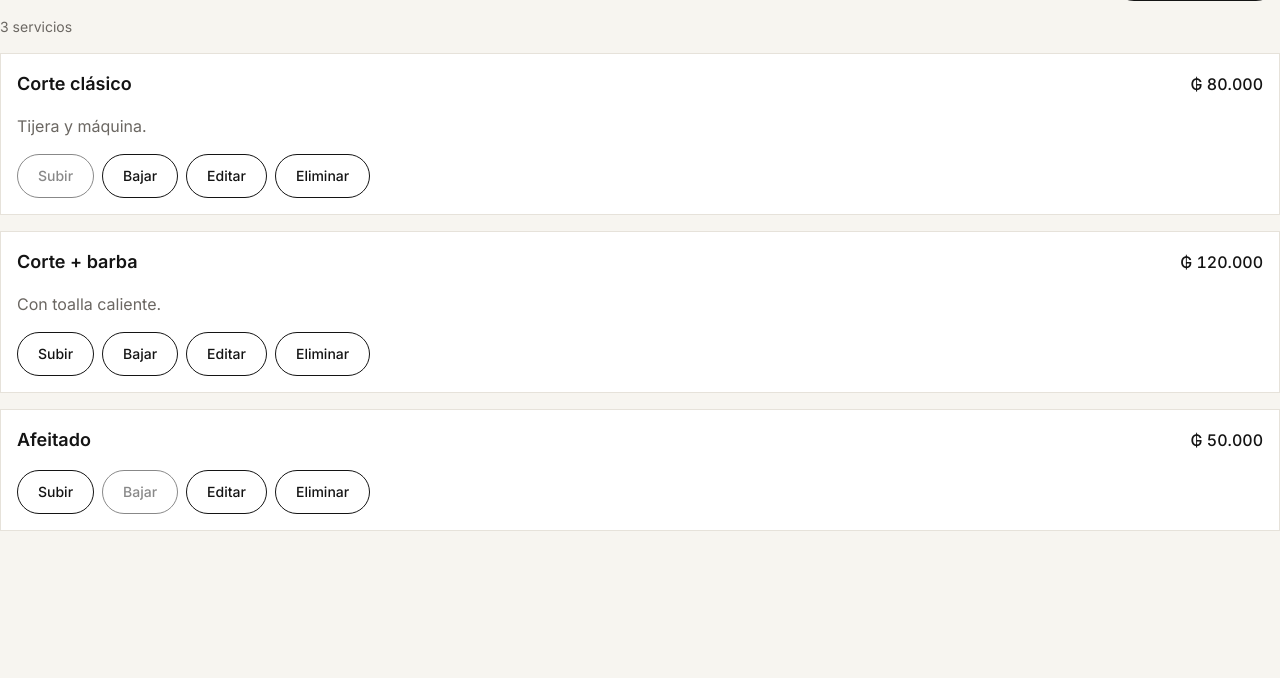
Test: edición en línea › los errores aparecen junto al campo y en el resumen solo tras enviar
Click the button with aria-label "Editar Corte + barba". click: [226, 354]
box: [186,332,267,376]
(page scrolled)
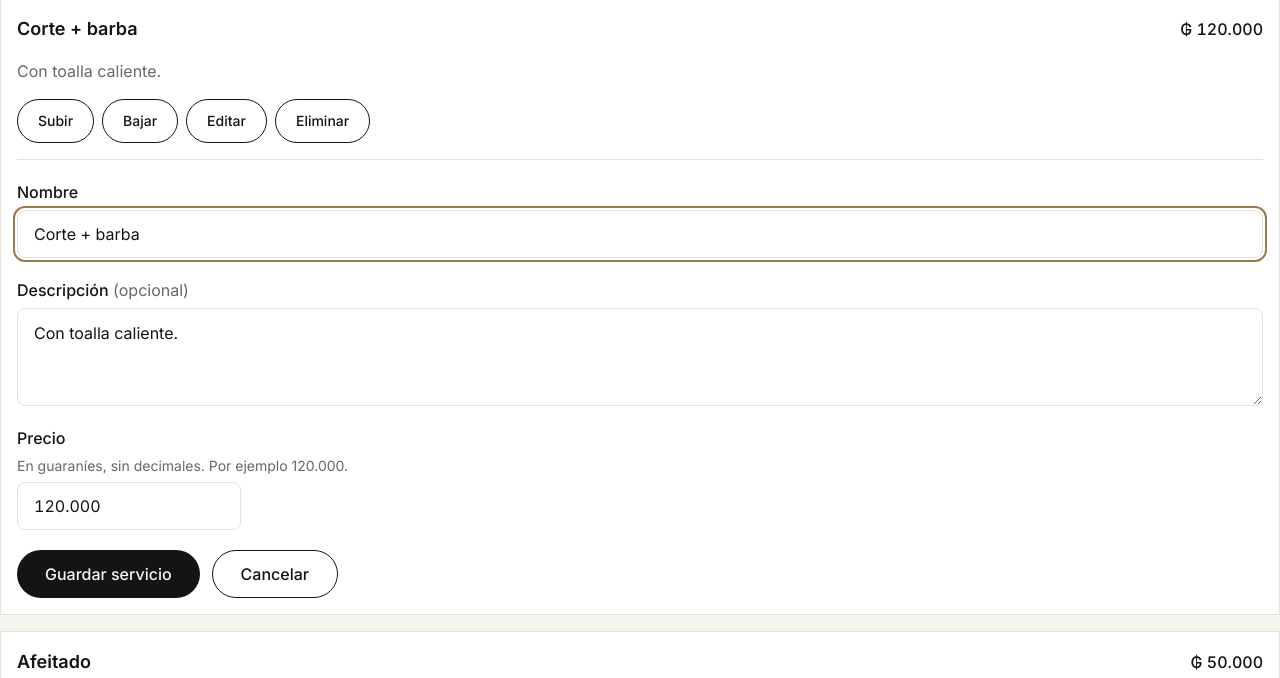
Replace the text in the field labelled "Precio" with "abc". click: [129, 506]
box: [17,482,241,530]
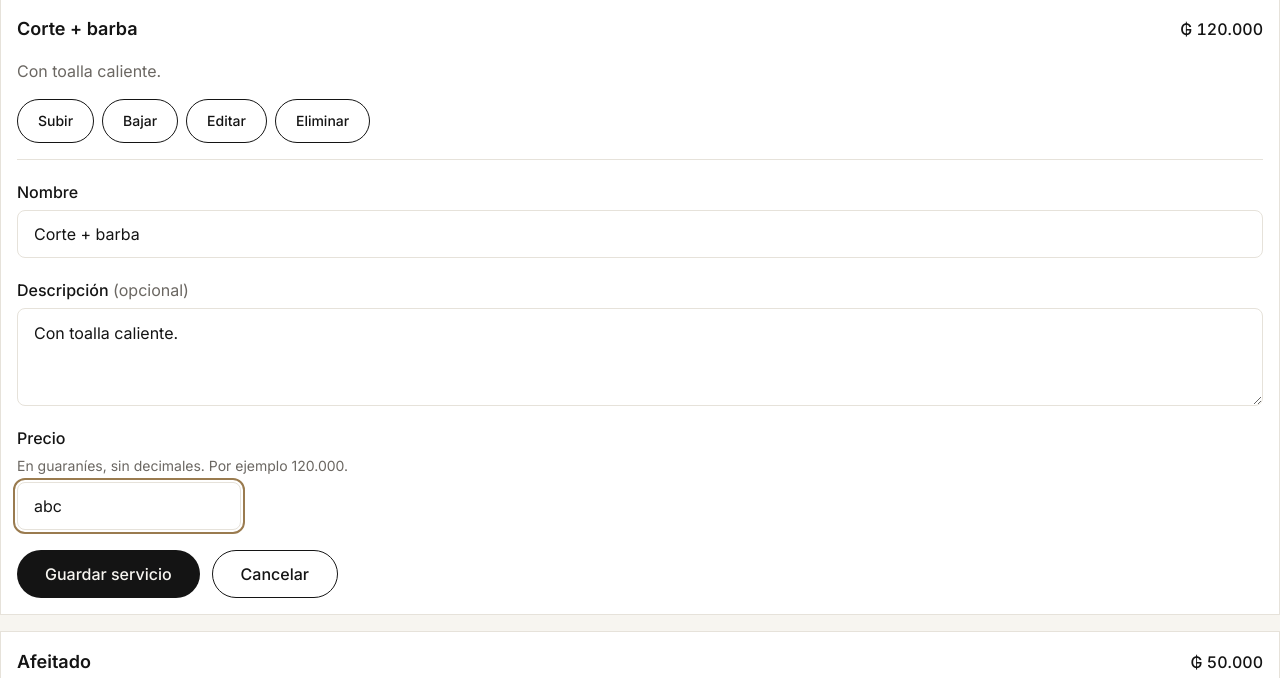
Al salir del campo: error junto al campo, sin resumen.
Press Tab
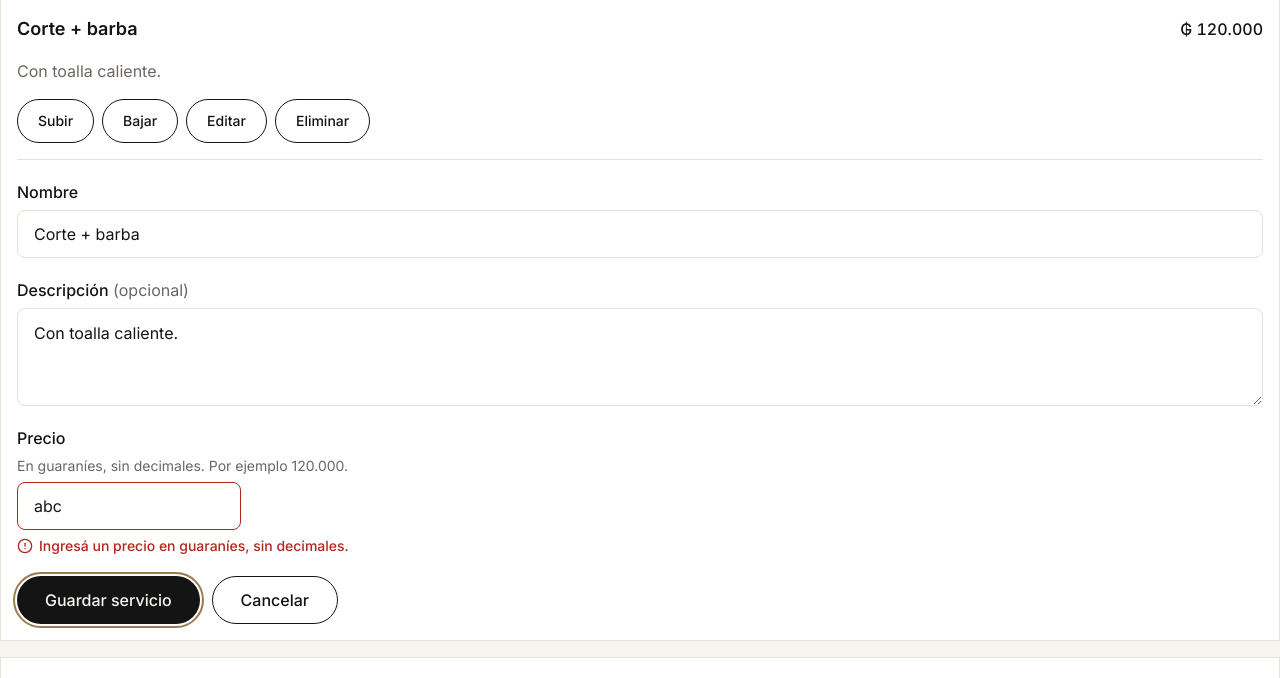
Click the button "Guardar servicio". click: [108, 600]
box: [17,576,200,624]
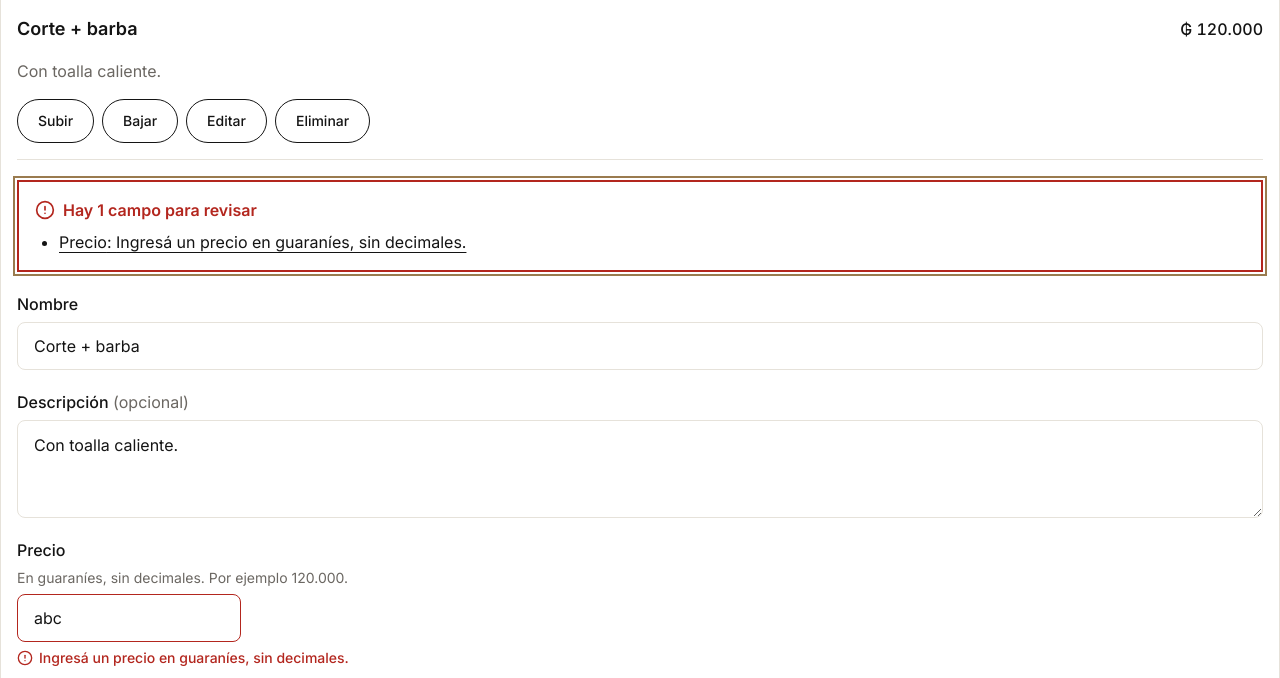
Expected: the message shows "Hay 1 campo para revisar", [63,200,257,220]
